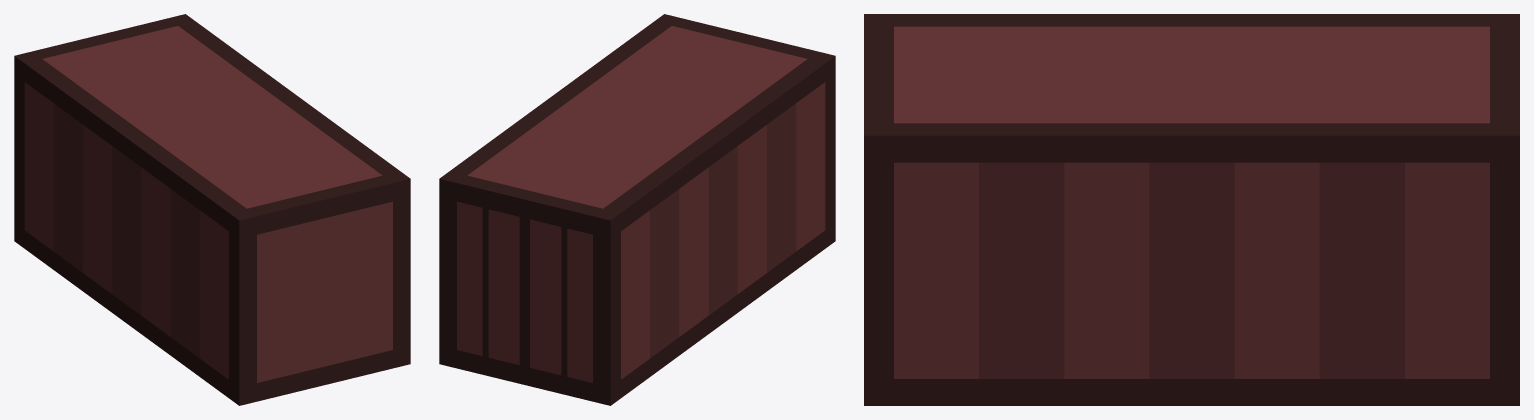
File: container.glb
3 views of the same model, side by side, from view 1: azimuth 30°, elevation 25°; view 2: azimuth 150°, elevation 25°; view 3: azimuth 270°, elevation 25° (orthographic). The views are drawn at different scales.
Visible parts, largest first — view 1: container; view 2: container; view 3: container.
Part boxes in pixels (bbox=[...]): container: bbox=[14, 14, 410, 405]; container: bbox=[439, 14, 835, 405]; container: bbox=[864, 14, 1519, 405].
Bounding box in the file's own units: 5.8 × 6 × 13.2.
